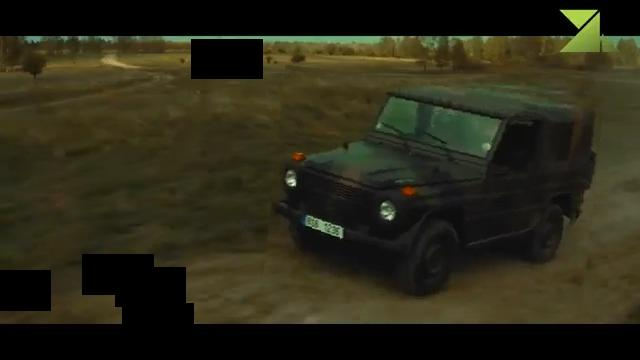MIL_HMMWV: (267, 73, 599, 307)
